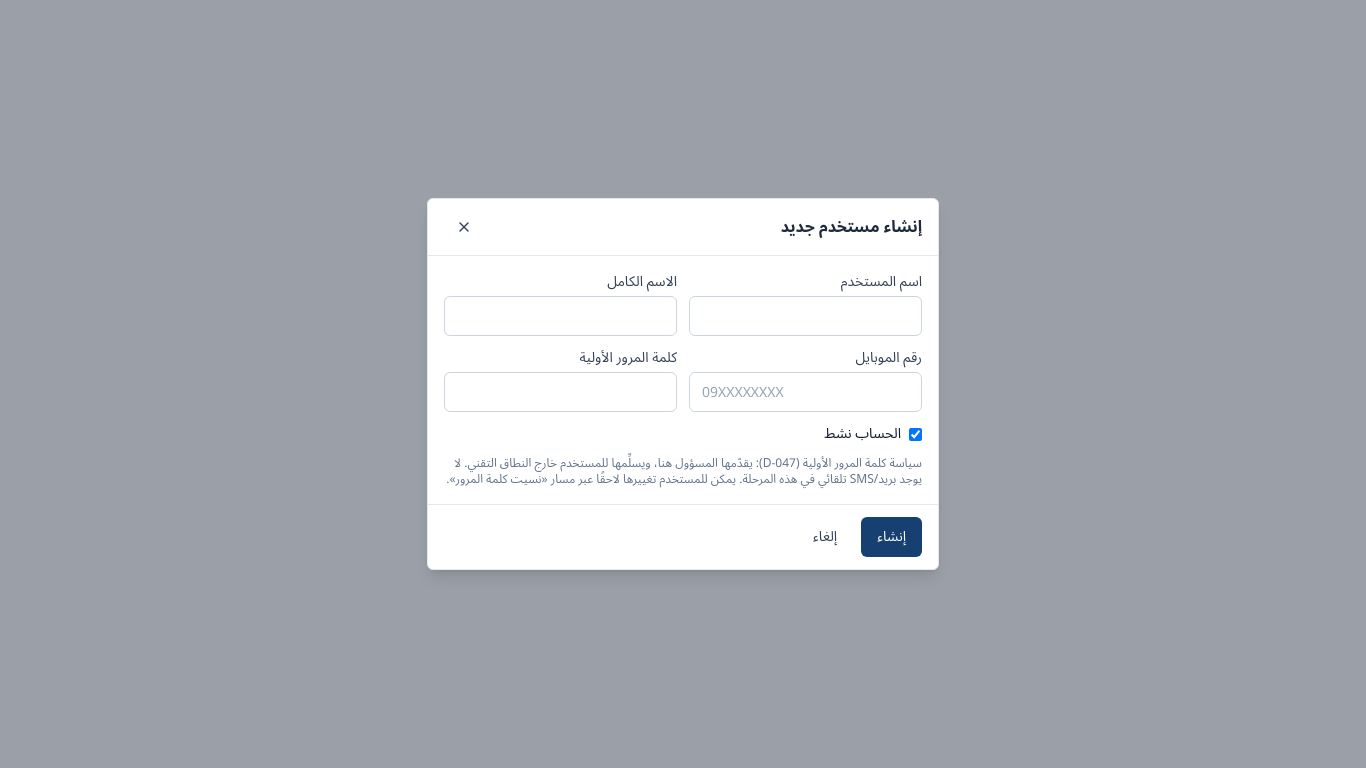
Test: CreateUserModal › rejects too-short password
The image size is (1366, 768).
In the field labelled "اسم المستخدم": (806, 316) top-left (689, 296), bottom-right (922, 336), type "abc"
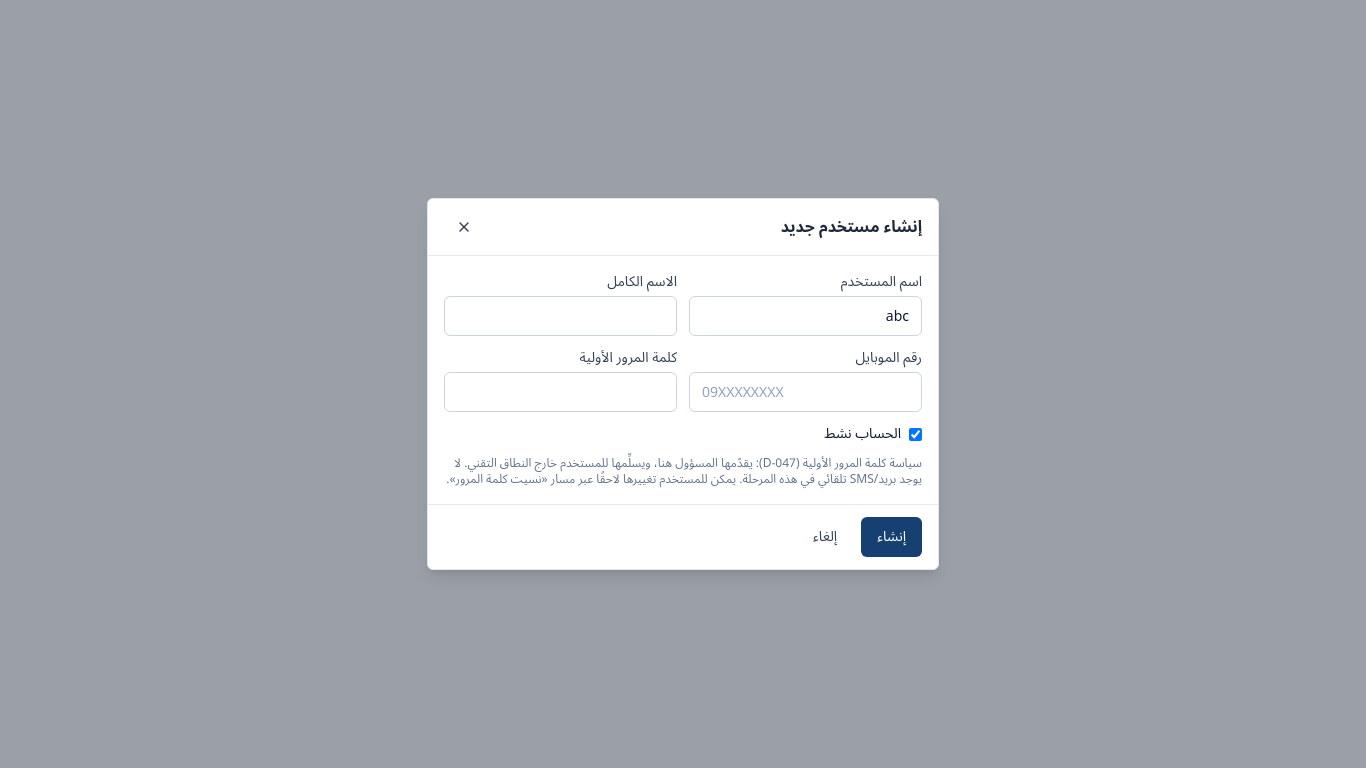
In the field labelled "الاسم الكامل": (560, 316) top-left (444, 296), bottom-right (677, 336), type "فلان"
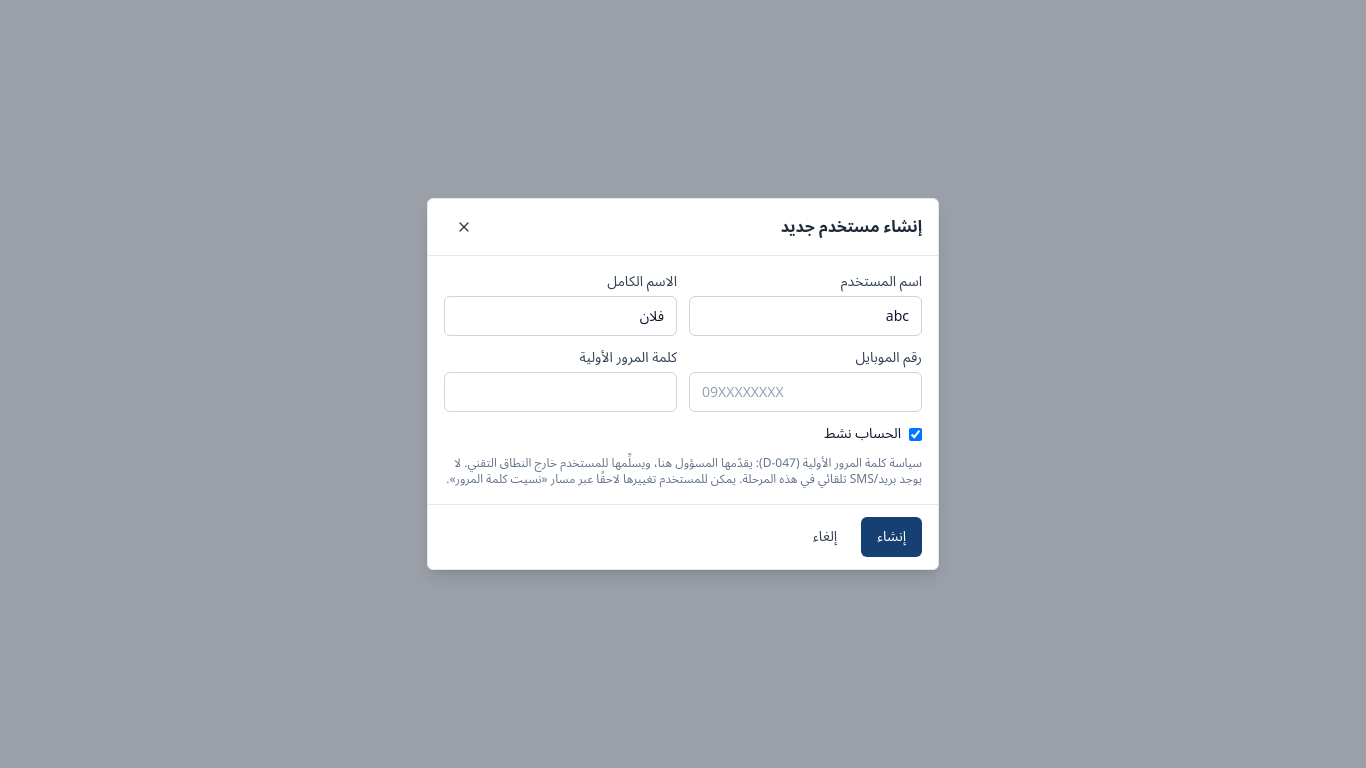
In the field labelled "رقم الموبايل": (806, 392) top-left (689, 372), bottom-right (922, 412), type "0912345678"
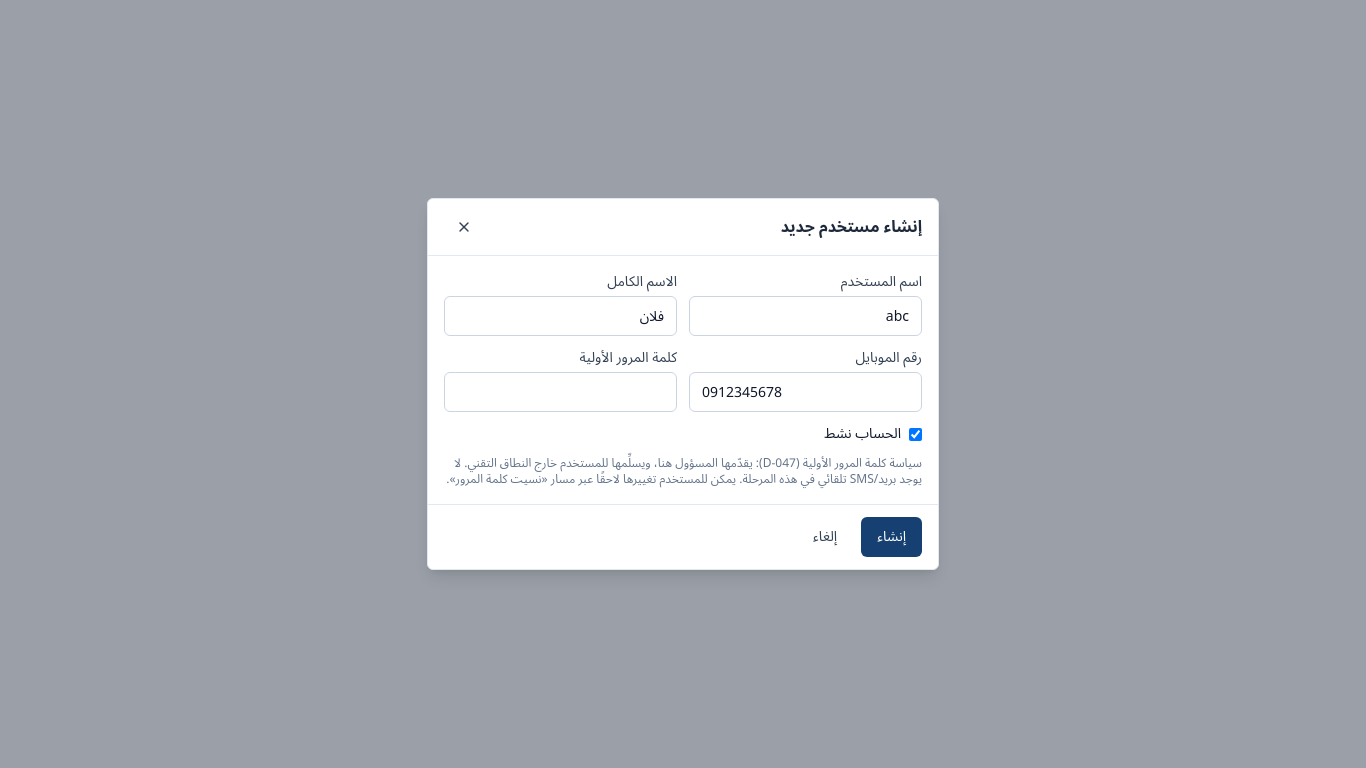
In the password field labelled "كلمة المرور الأولية": (560, 392) top-left (444, 372), bottom-right (677, 412), type "short"
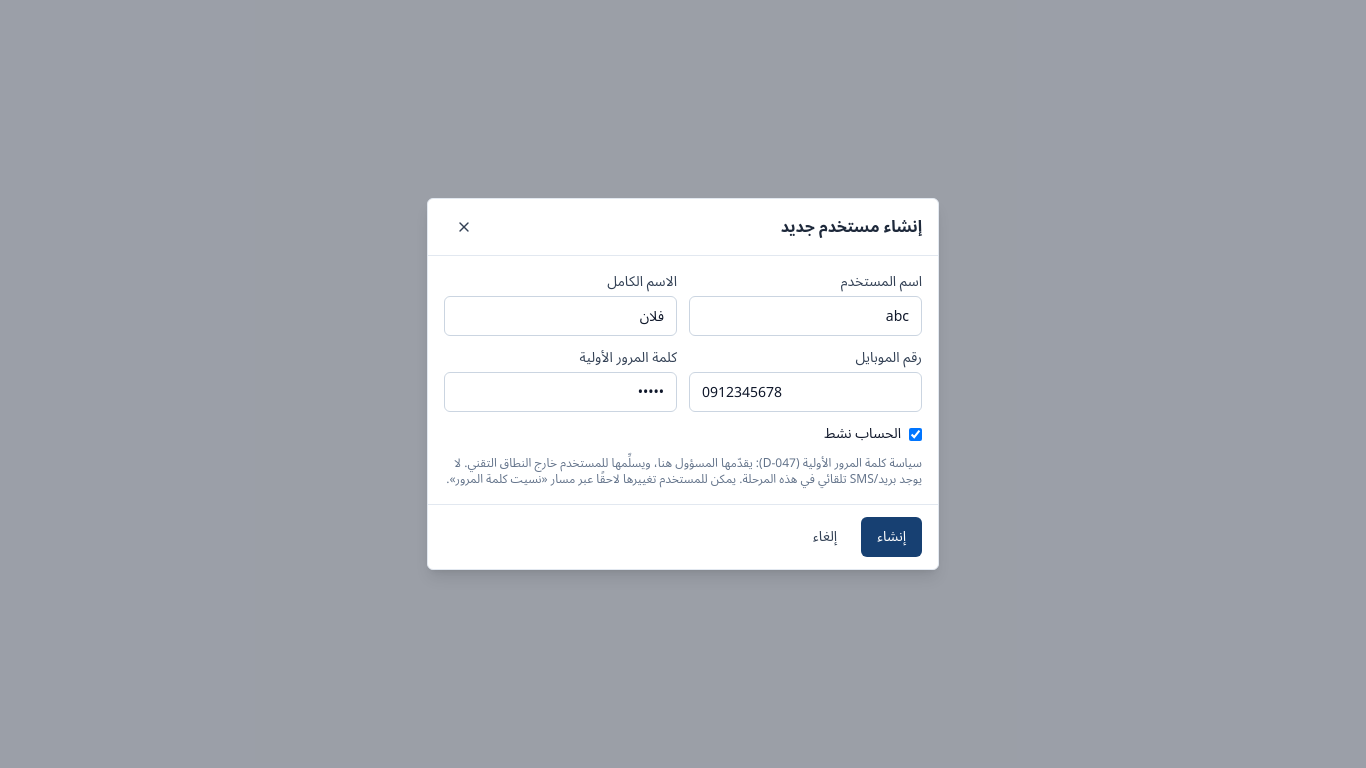
Submit the form with test id "admin-user-form", box top-left (444, 272), bottom-right (922, 488)
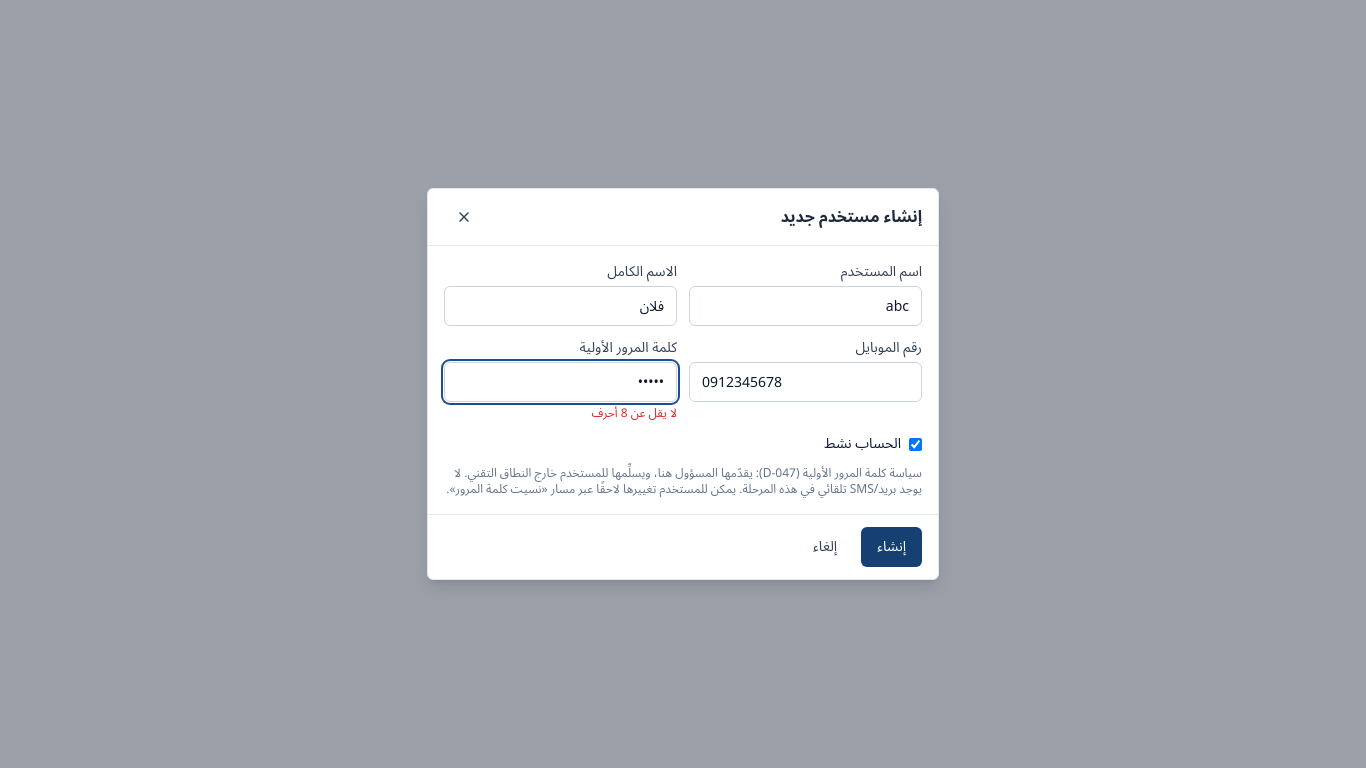
Expected: the text "لا يقل عن 8 أحرف" is shown, top-left (592, 401), bottom-right (677, 426)
